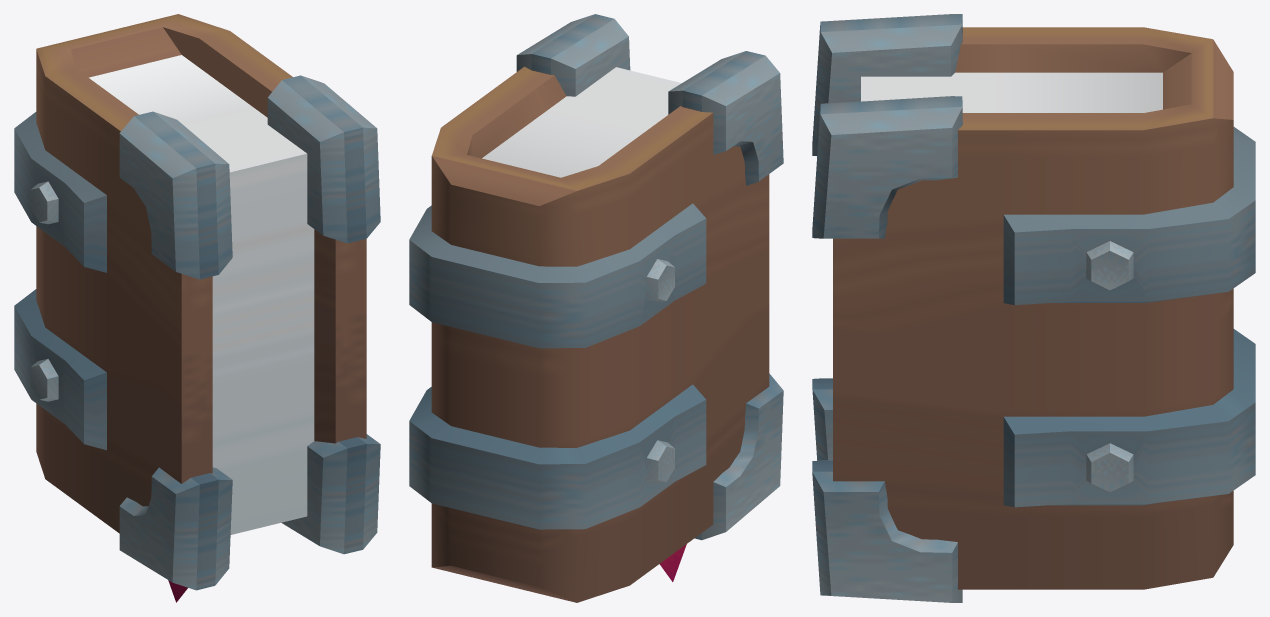
File: journal-closed.glb
3 renders of one model, left to right at view 1: azimuth 30°, elevation 25°; view 2: azimuth 150°, elevation 25°; view 3: azimuth 270°, elevation 25°, orthographic. The views are drawn at different scales.
Visible parts, largest first — view 1: journal_closed; view 2: journal_closed; view 3: journal_closed.
Part boxes in pixels (x1,y1,x2,y2): journal_closed: [14, 14, 380, 602]; journal_closed: [409, 14, 783, 602]; journal_closed: [812, 14, 1255, 602].
Bounding box in the file's own units: 0.3835 × 0.7914 × 0.5691.
1 material, 1 textured.
